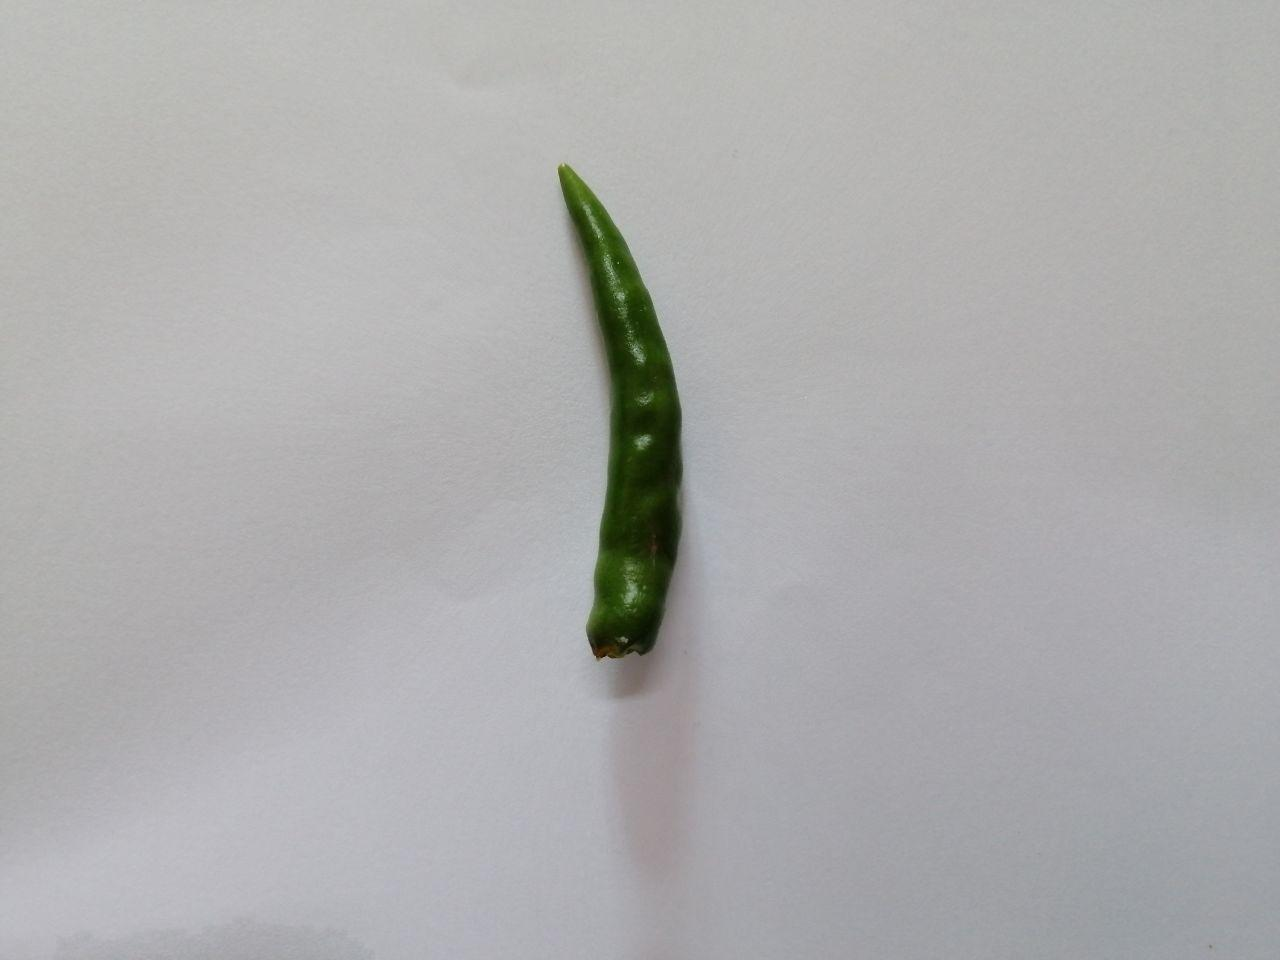lada hijau: (521, 143, 700, 689)
